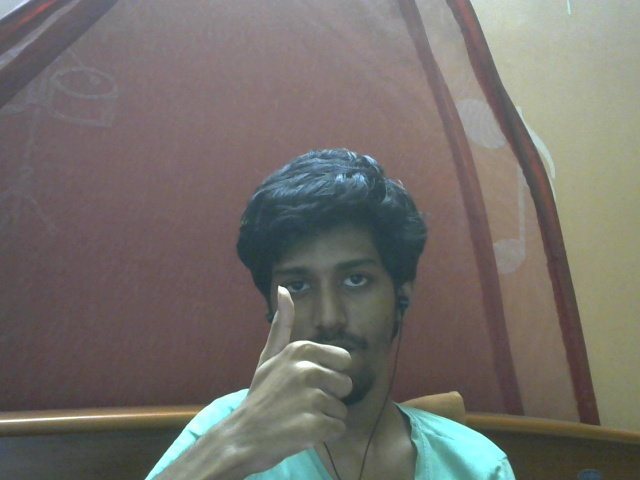ThumbsUp: (244, 285, 353, 472)
